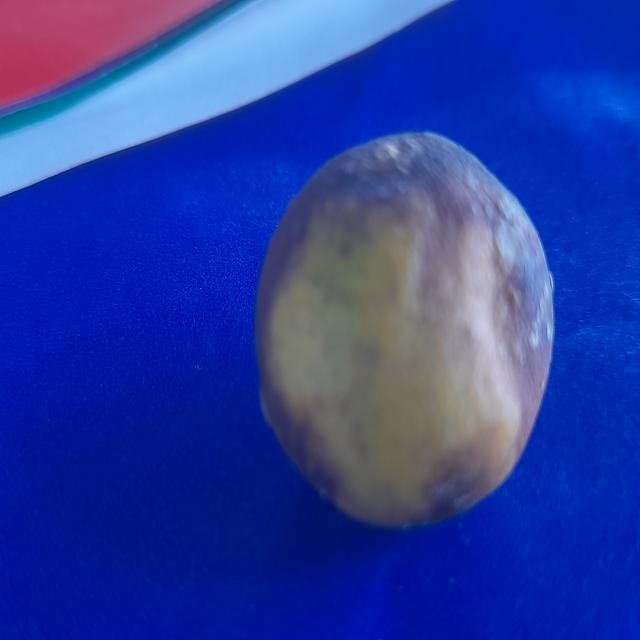black spot: (250, 119, 554, 521)
